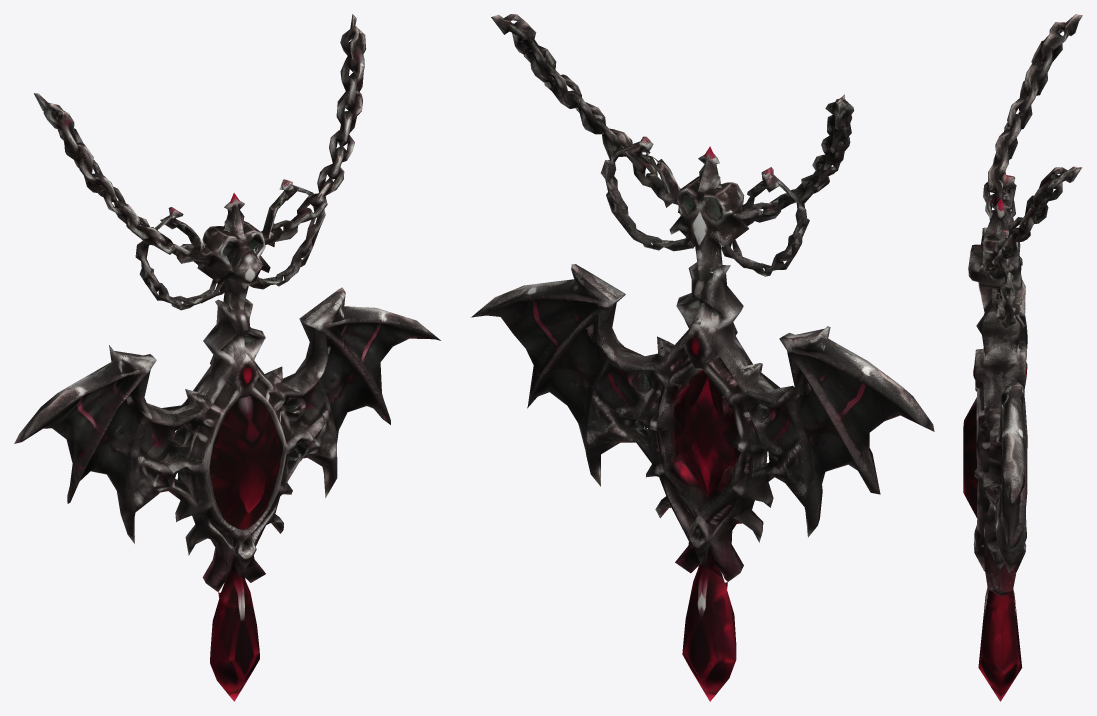
The model's file is Meshy_AI_Crimson_Batwing_Cross_0607215526_texture.glb.
3 views of the same model, side by side, from view 1: azimuth 30°, elevation 25°; view 2: azimuth 150°, elevation 25°; view 3: azimuth 270°, elevation 25° (orthographic). The views are drawn at different scales.
Visible parts, largest first — view 1: Mesh_0; view 2: Mesh_0; view 3: Mesh_0.
Boxes of the visible parts, x1,y1,x2,y2 form: Mesh_0: (14, 14, 440, 701); Mesh_0: (471, 14, 934, 701); Mesh_0: (963, 14, 1082, 701).
Size of the model in its own units: 1.37 by 1.91 by 0.3384.
1 material, 1 textured.
